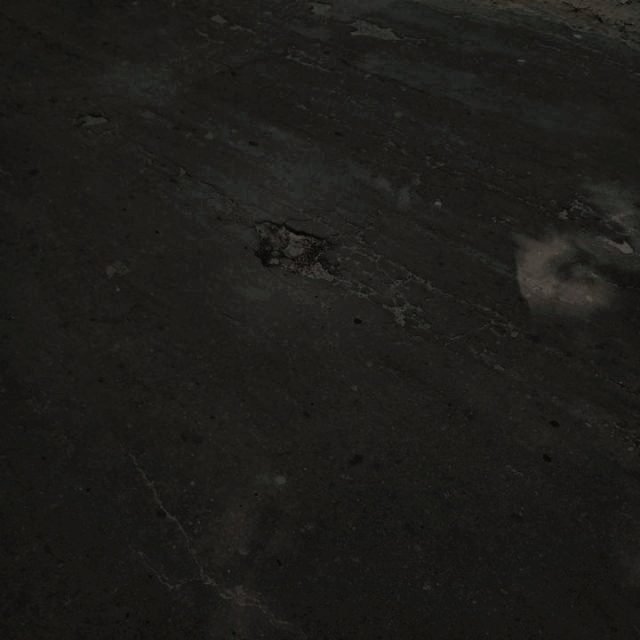Pothole: (246, 218, 337, 286), (346, 15, 402, 42), (76, 110, 110, 128), (308, 0, 334, 16)
